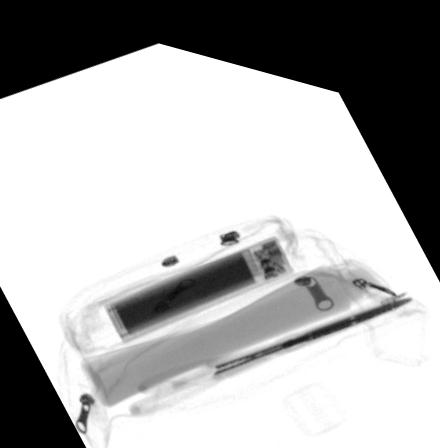Powerbank: (98, 218, 297, 334)
Scissors: (127, 270, 413, 407)
